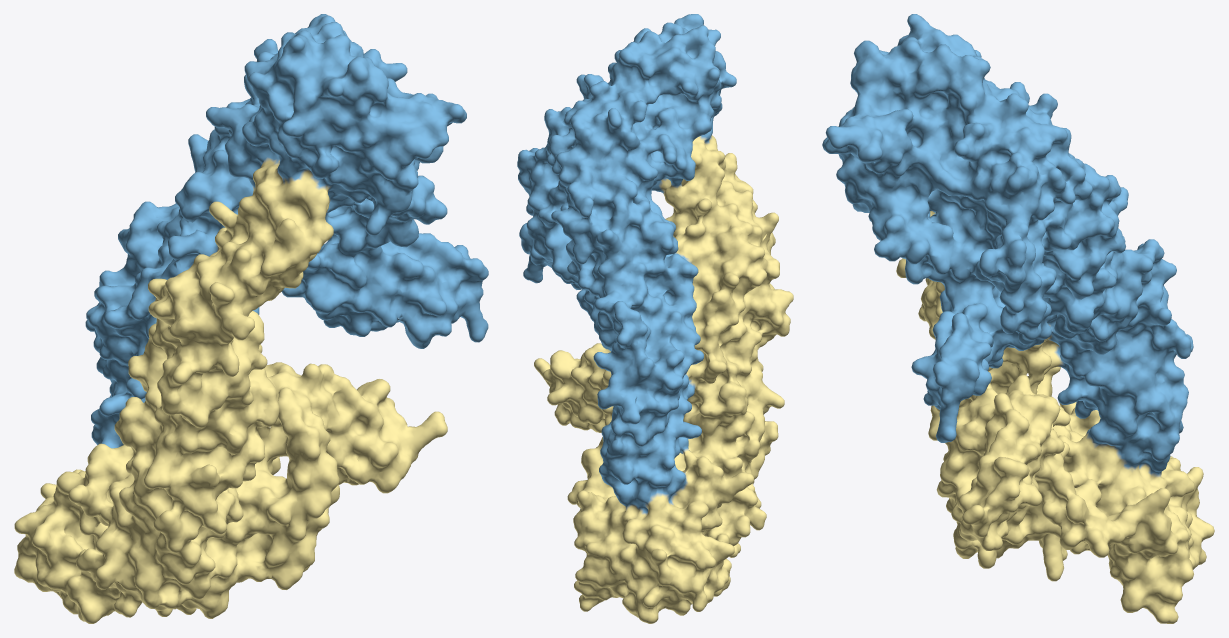
Rendered from EnvelopeDimer.glb.
The picture shows the model from 3 angles, left to right: view 1: azimuth 30°, elevation 25°; view 2: azimuth 150°, elevation 25°; view 3: azimuth 270°, elevation 25°; orthographic projection. The views are drawn at different scales.
Visible parts, largest first — view 1: node-geom2, node-geom7, node-geom4, node-geom3, node-geom6, node-geom1, node-geom5, node-geom8, node-geom0; view 2: node-geom5, node-geom1, node-geom2, node-geom0, node-geom6, node-geom4, node-geom3, node-geom8, node-geom7; view 3: node-geom2, node-geom5, node-geom6, node-geom0, node-geom8, node-geom3, node-geom4, node-geom1, node-geom7.
Boxes of the visible parts, bbox=[...] form: node-geom2: bbox=[54, 14, 466, 552]; node-geom7: bbox=[43, 148, 453, 617]; node-geom4: bbox=[14, 84, 488, 623]; node-geom3: bbox=[14, 277, 355, 618]; node-geom6: bbox=[53, 16, 453, 535]; node-geom1: bbox=[57, 96, 443, 521]; node-geom5: bbox=[25, 30, 488, 617]; node-geom8: bbox=[14, 69, 419, 621]; node-geom0: bbox=[92, 98, 366, 414]; node-geom5: bbox=[518, 14, 778, 617]; node-geom1: bbox=[518, 130, 774, 521]; node-geom2: bbox=[517, 14, 788, 531]; node-geom0: bbox=[527, 164, 717, 449]; node-geom6: bbox=[541, 18, 770, 534]; node-geom4: bbox=[519, 120, 793, 623]; node-geom3: bbox=[567, 214, 793, 600]; node-geom8: bbox=[543, 22, 779, 615]; node-geom7: bbox=[517, 143, 790, 600]; node-geom2: bbox=[822, 14, 1177, 516]; node-geom5: bbox=[833, 14, 1192, 580]; node-geom6: bbox=[823, 31, 1179, 515]; node-geom0: bbox=[935, 157, 1193, 438]; node-geom8: bbox=[893, 99, 1211, 623]; node-geom3: bbox=[925, 278, 1203, 620]; node-geom4: bbox=[896, 128, 1214, 623]; node-geom1: bbox=[906, 135, 1187, 486]; node-geom7: bbox=[919, 204, 1180, 611].
Size of the model in its own units: 82 by 140 by 82.71.
